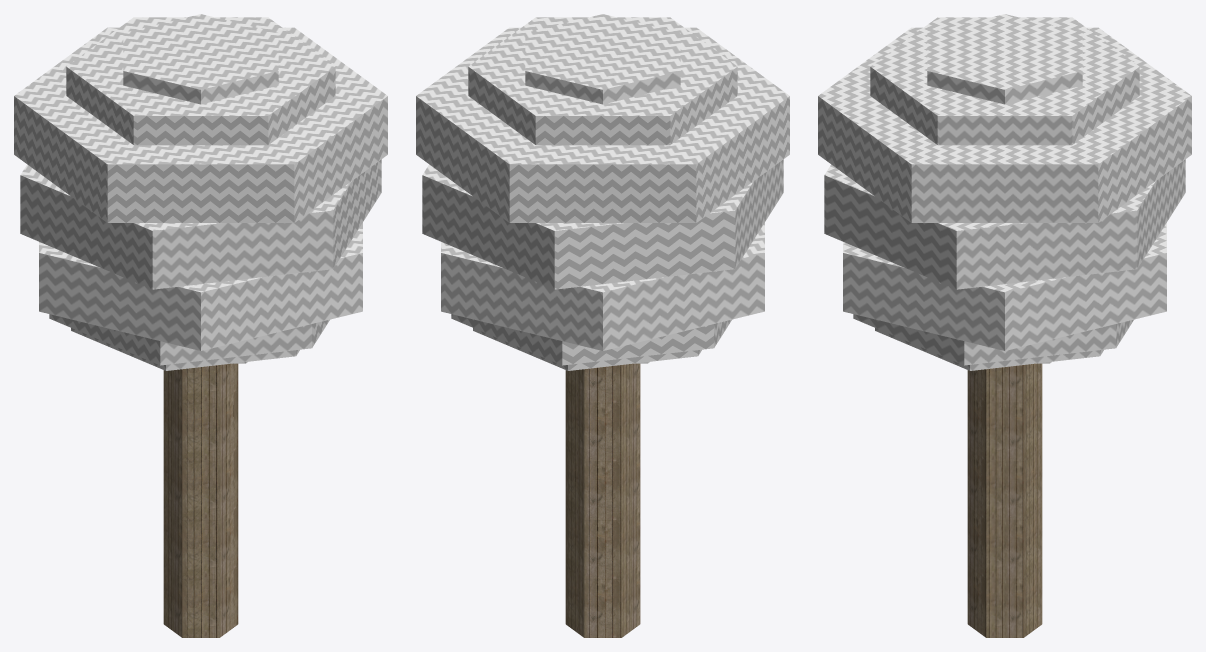
Rendered from Tree.fbx.
The picture shows the model from 3 angles, left to right: view 1: azimuth 30°, elevation 25°; view 2: azimuth 150°, elevation 25°; view 3: azimuth 270°, elevation 25°; orthographic projection.
Visible parts, largest first — view 1: mergedBlocks; view 2: mergedBlocks; view 3: mergedBlocks.
Boxes of the visible parts, x1=… form: mergedBlocks: x1=14, y1=14, x2=387, y2=637; mergedBlocks: x1=416, y1=14, x2=789, y2=637; mergedBlocks: x1=818, y1=14, x2=1191, y2=637.
Bounding box in the file's own units: 57.74 × 97.5 × 57.74.
Materials: 2 (2 with a texture image).
